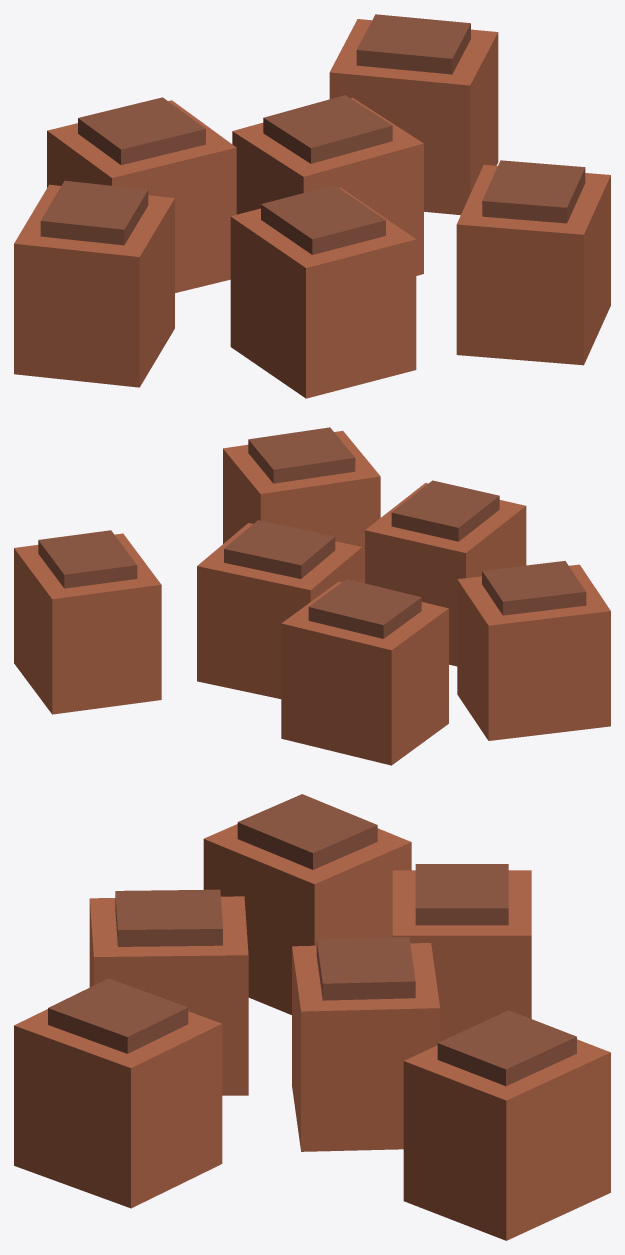
The model's file is chicken-cooked.glb.
3 renders of one model, top to bottom at view 1: azimuth 30°, elevation 25°; view 2: azimuth 150°, elevation 25°; view 3: azimuth 270°, elevation 25°, orthographic. The views are drawn at different scales.
Visible parts, largest first — view 1: chicken-cooked; view 2: chicken-cooked; view 3: chicken-cooked.
Part boxes in pixels (<box>): chicken-cooked: <box>14,14,610,398</box>; chicken-cooked: <box>14,427,610,765</box>; chicken-cooked: <box>14,794,610,1240</box>.
Size of the model in its own units: 0.2325 by 0.056 by 0.1928.
Materials: 1 (1 with a texture image).
